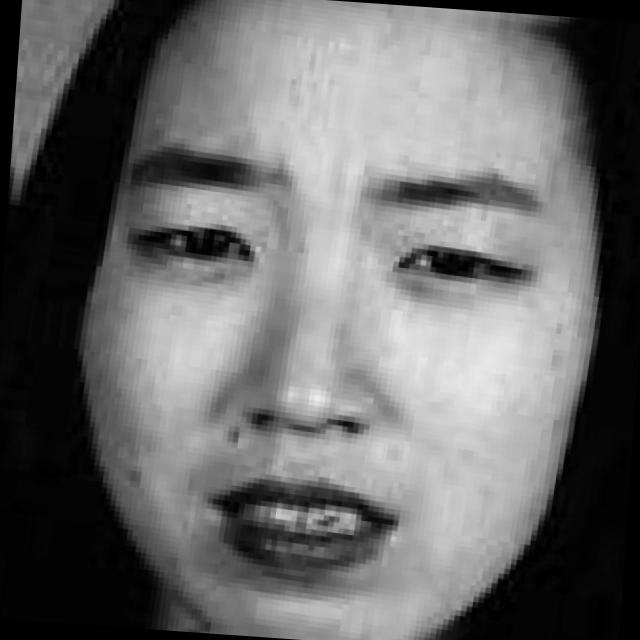disgust: (39, 16, 554, 636)
